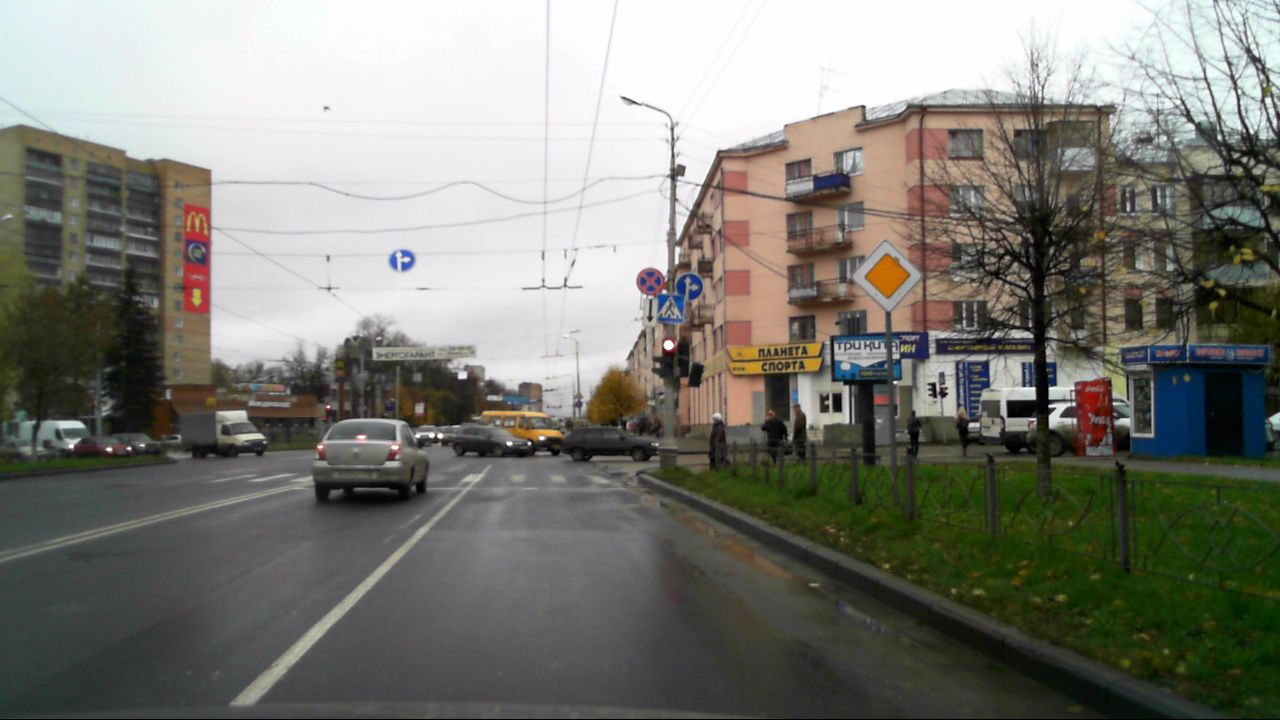No Parking: (636, 267, 664, 296)
